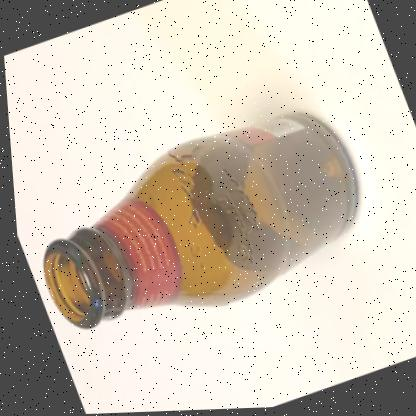Glass: (38, 113, 354, 329)
